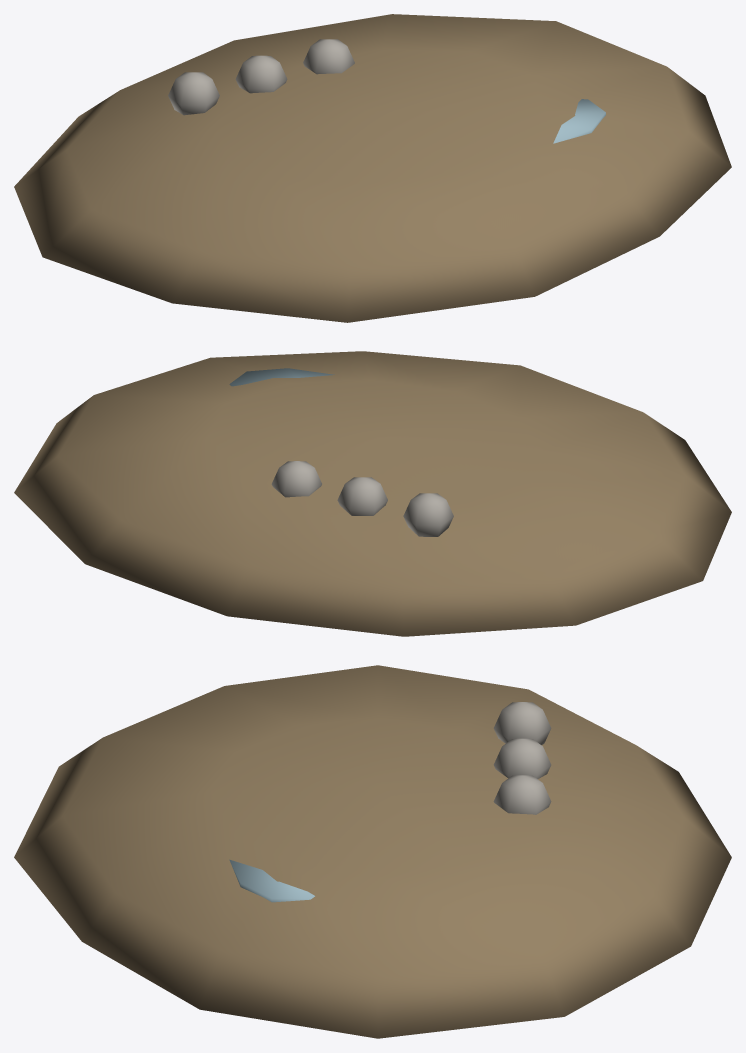
File: ing_river_silt.glb
3 renders of one model, top to bottom at view 1: azimuth 30°, elevation 25°; view 2: azimuth 150°, elevation 25°; view 3: azimuth 270°, elevation 25°, orthographic. The views are drawn at different scales.
Visible parts, largest first — view 1: ing_river_silt; view 2: ing_river_silt; view 3: ing_river_silt.
Boxes of the visible parts, left/top/right/bottom form: ing_river_silt: left=14, top=14, right=731, bottom=322; ing_river_silt: left=14, top=351, right=731, bottom=636; ing_river_silt: left=14, top=665, right=731, bottom=1038.
Size of what is drawn, in the model's own units: 0.4713 by 0.072 by 0.3974.
